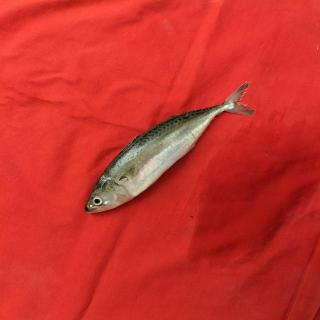Ikan: (70, 68, 267, 221)
